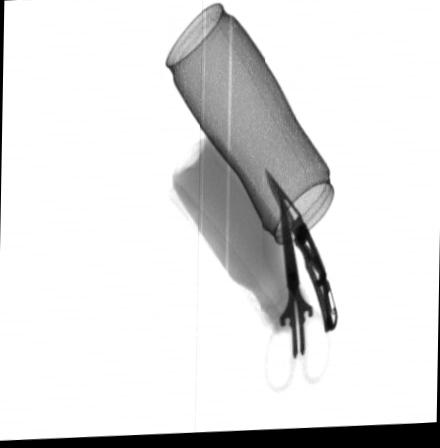Knife: (262, 173, 337, 335)
Scissors: (264, 200, 330, 397)
